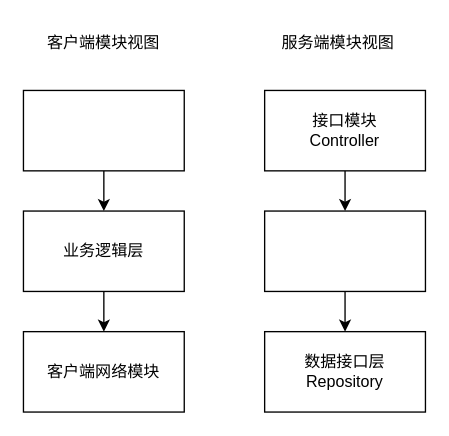
Image size: 449x436. Some labels were removed from this diagram. Each missing label, with the box of its shape:
业务逻辑层 ServiceImpl: (263, 210, 425, 291)
展示层: (22, 89, 184, 171)
